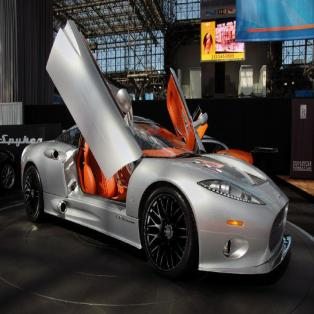Auto: (19, 17, 293, 286)
